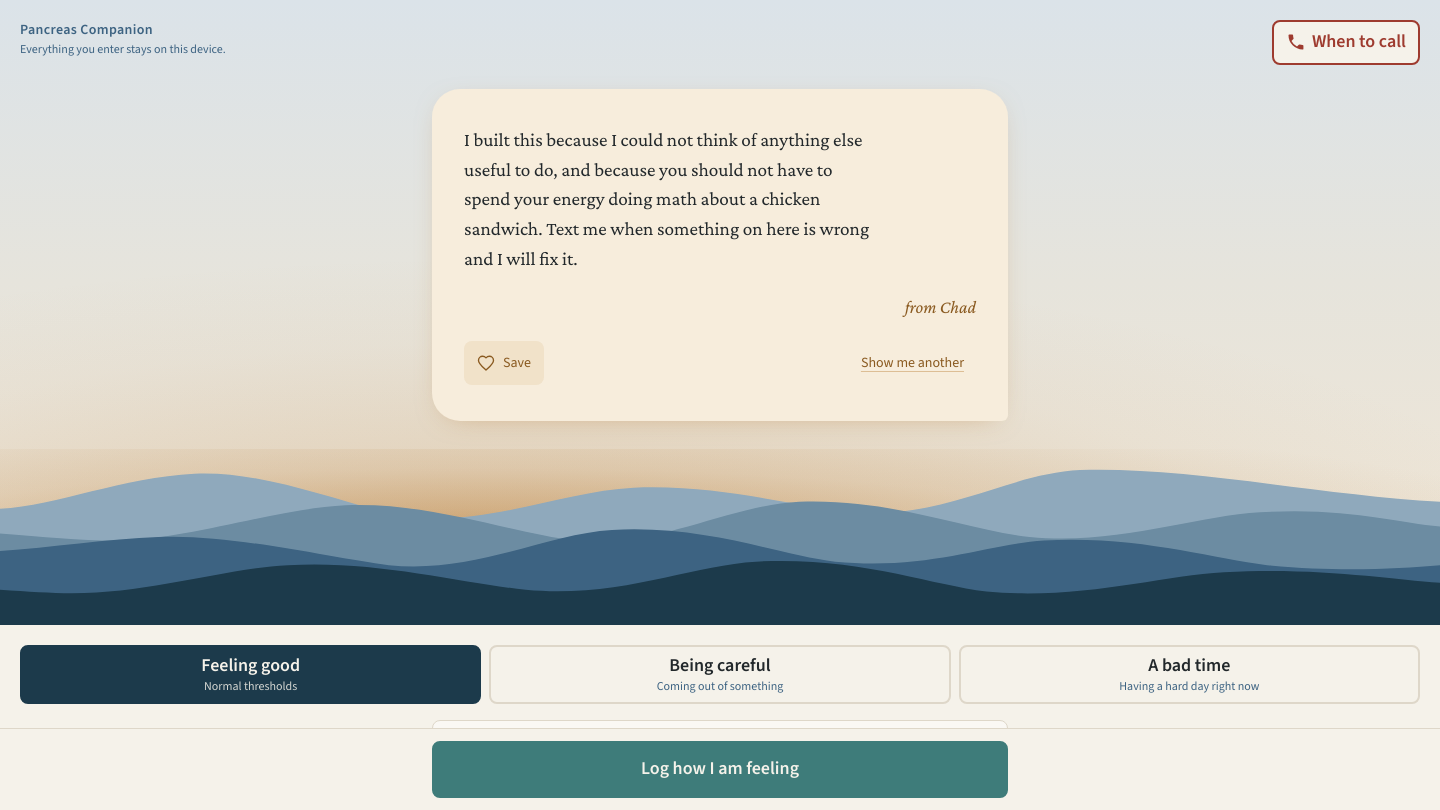
FlareGate, invariant 1 › lists the same red flags on the card and at the gate
Click the radio button labelled "A bad time Having a hard day right now" at coordinates (1189, 674), box [959, 644, 1420, 704]
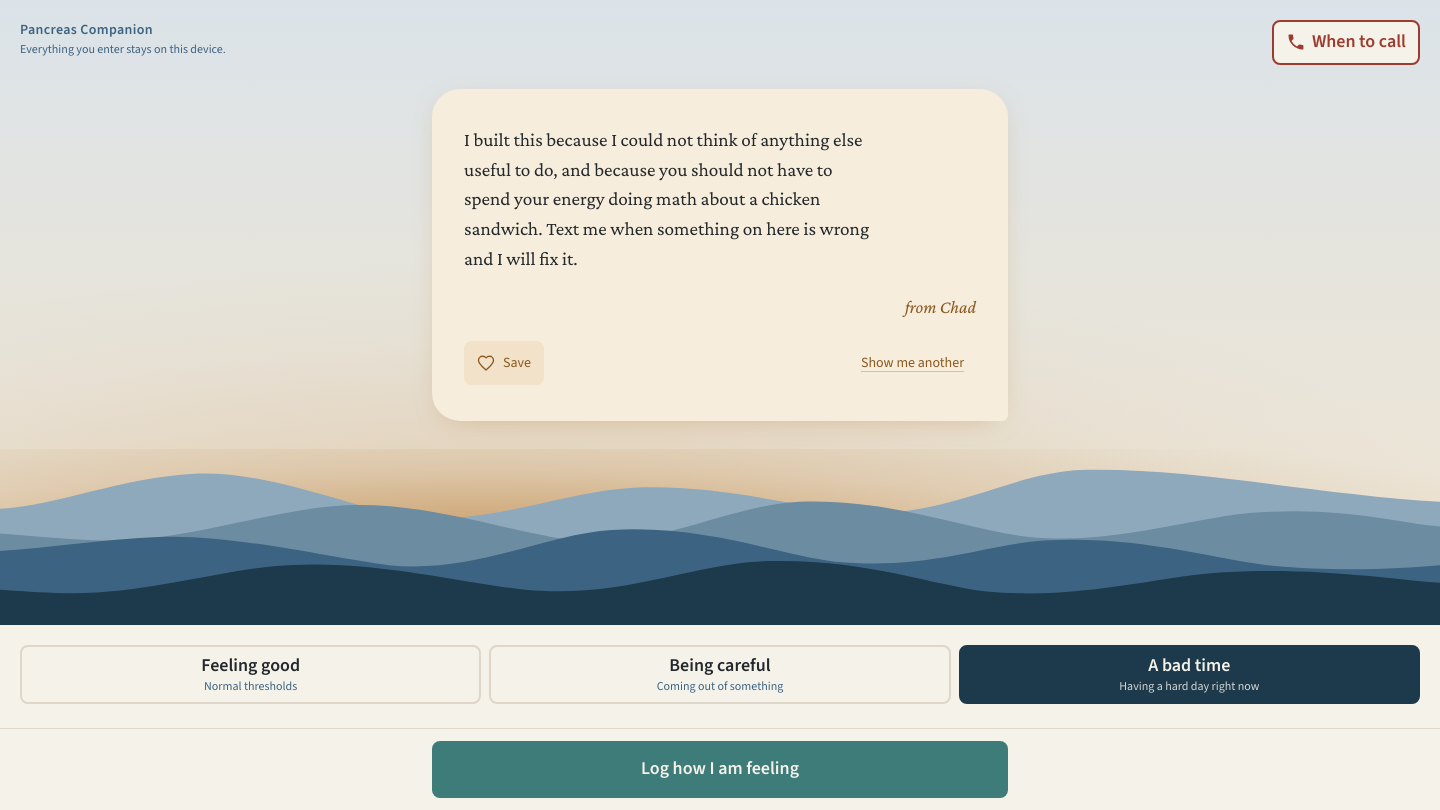
Click the button "When to call" at coordinates (1346, 42), box [1272, 20, 1420, 65]
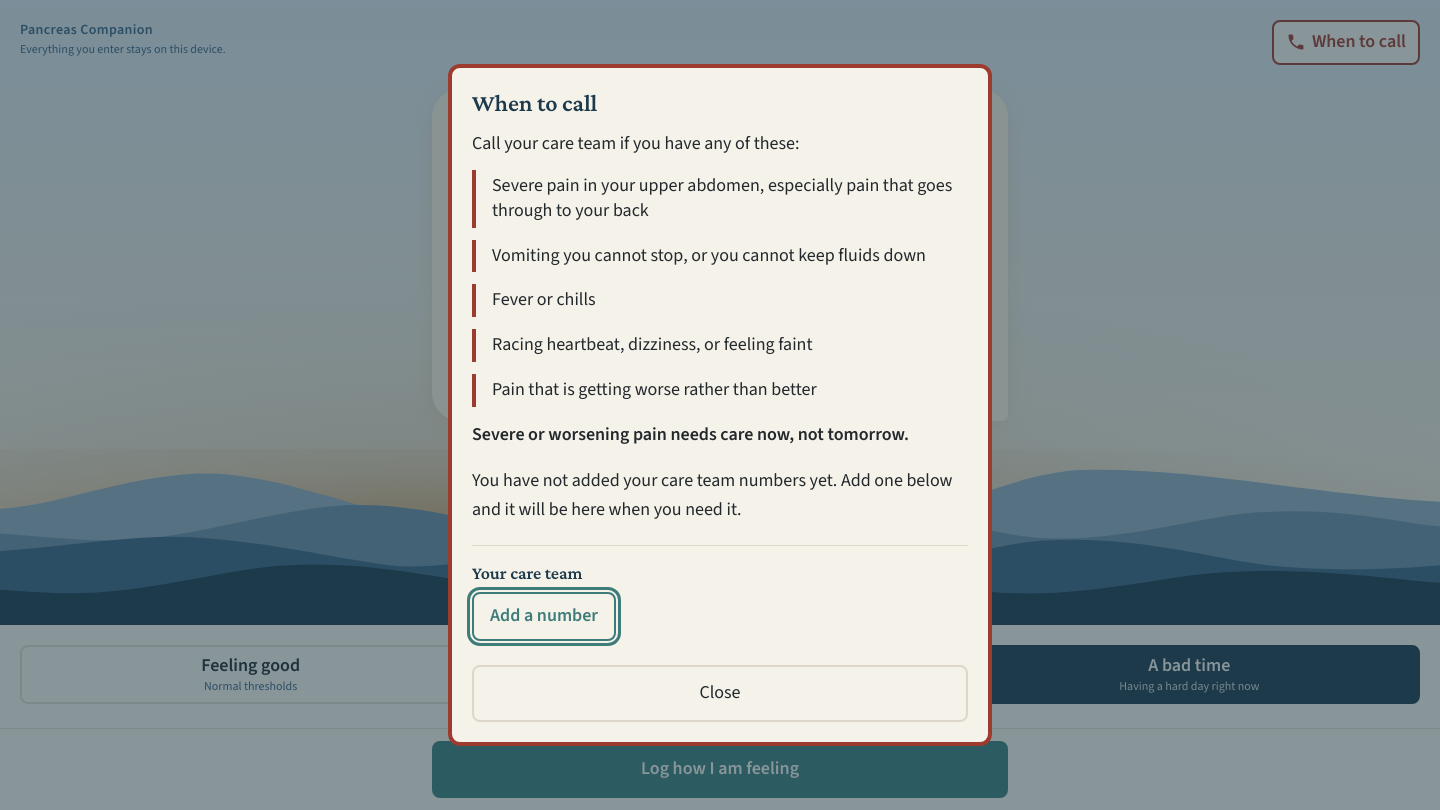
Result: the list items read "Severe pain in your upper abdomen, especially pain that goes through to your back", "Vomiting you cannot stop, or you cannot keep fluids down", "Fever or chills", "Racing heartbeat, dizziness, or feeling faint", "Pain that is getting worse rather than better", in this order at [472, 170, 968, 228]; [472, 240, 968, 272]; [472, 284, 968, 317]; [472, 329, 968, 362]; [472, 374, 968, 407]
